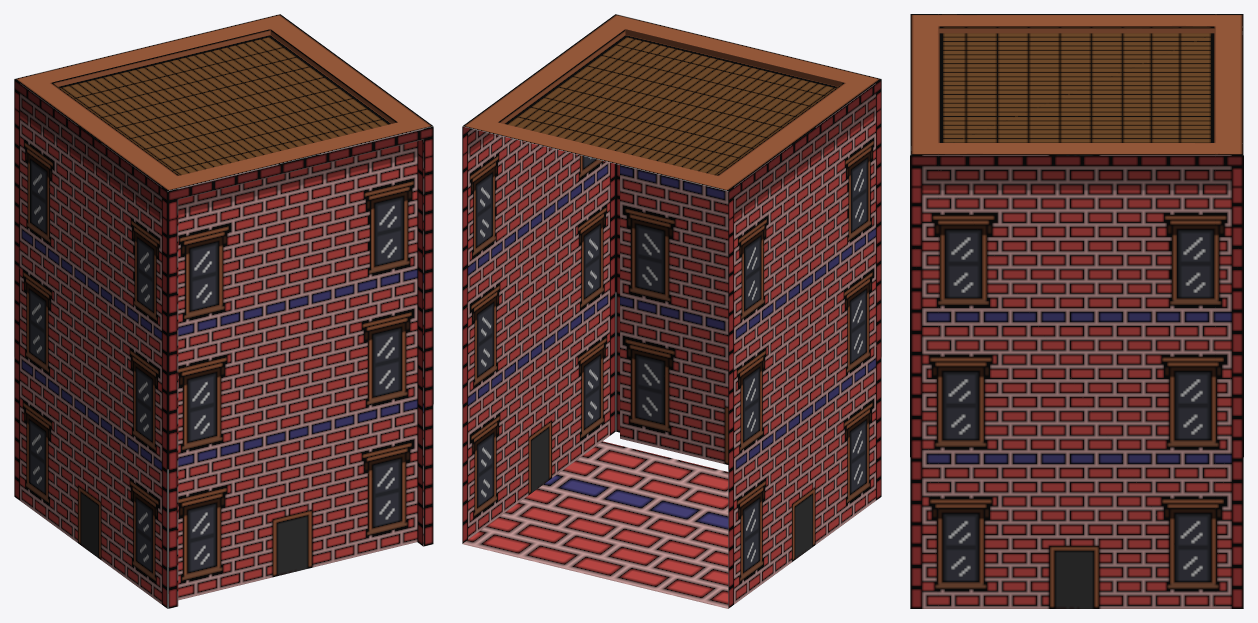
File: TallBuilding.fbx
3 renders of one model, left to right at view 1: azimuth 30°, elevation 25°; view 2: azimuth 150°, elevation 25°; view 3: azimuth 270°, elevation 25°, orthographic. The views are drawn at different scales.
Visible parts, largest first — view 1: Cube; view 2: Cube; view 3: Cube.
Part boxes in pixels (x1=…): Cube: x1=14, y1=14, x2=433, y2=608; Cube: x1=462, y1=14, x2=881, y2=608; Cube: x1=910, y1=14, x2=1243, y2=608.
Size of the model in its own units: 200 by 300 by 200.
